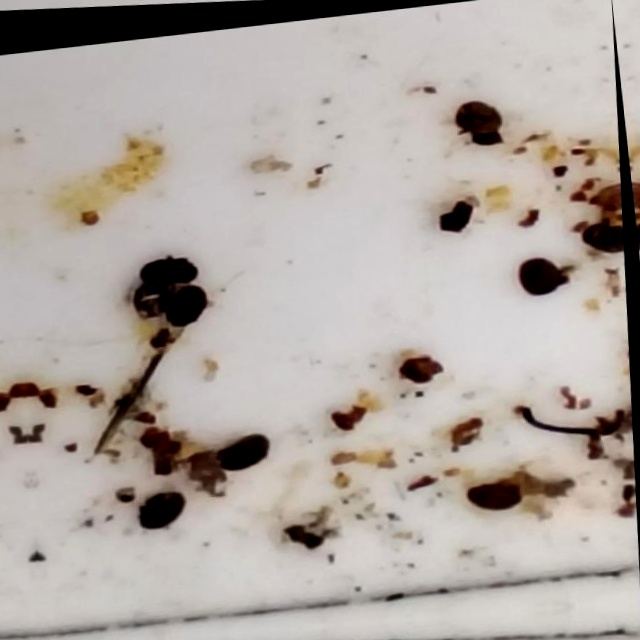varroa: (213, 428, 276, 473), (158, 280, 215, 327), (133, 250, 200, 288), (134, 487, 192, 530), (452, 98, 506, 143), (123, 277, 171, 323), (515, 256, 564, 299), (464, 478, 523, 512), (577, 216, 625, 257)
